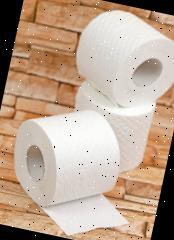paper: (3, 96, 130, 221), (66, 2, 174, 118), (62, 80, 158, 178), (31, 180, 134, 240)
